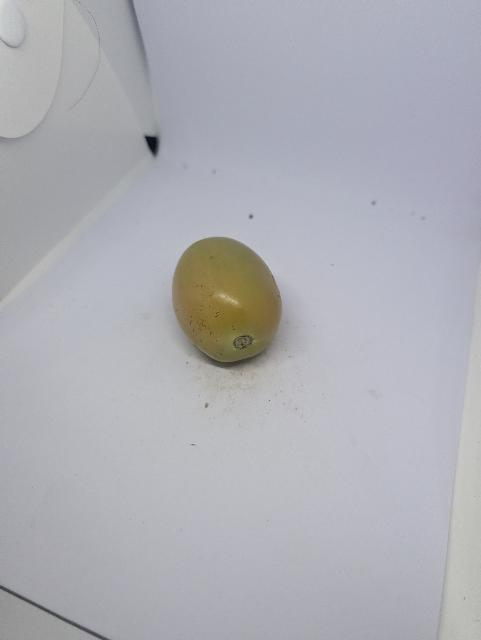breaker: (170, 232, 287, 366)
